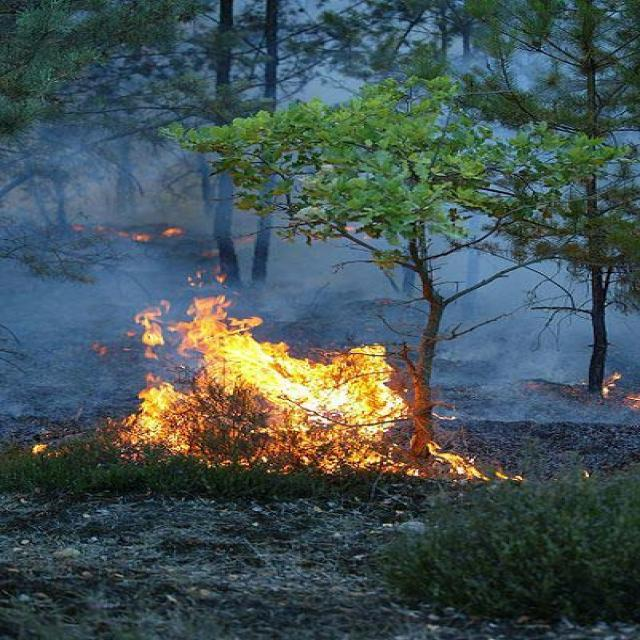Fire: (114, 288, 527, 489), (61, 212, 218, 278), (8, 416, 96, 491), (556, 362, 638, 430)
Smoke: (13, 290, 106, 406)
